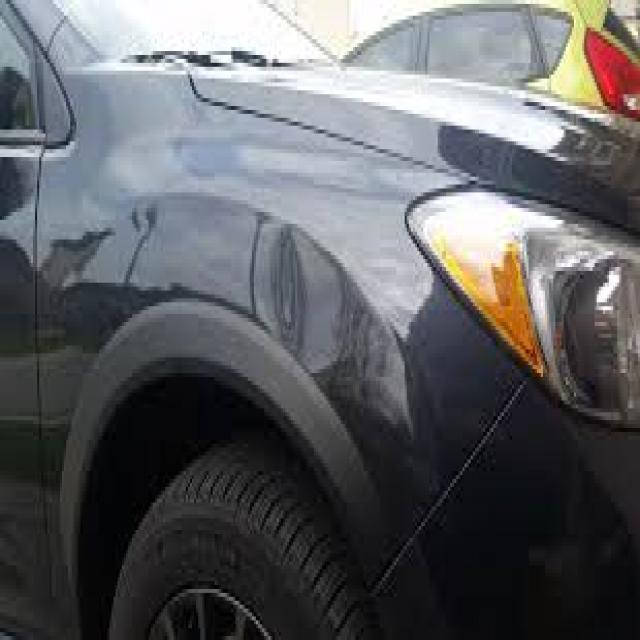minor: (231, 161, 385, 405)
